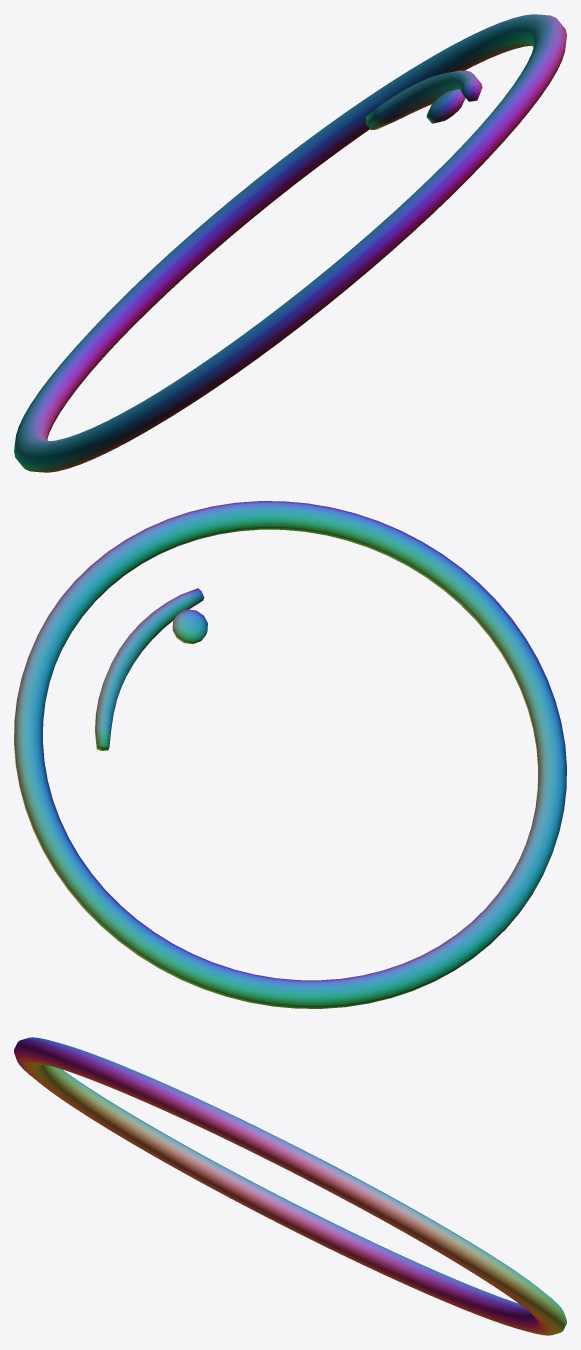
The model's file is SM_FX_Bubble.fbx.
The picture shows the model from 3 angles, top to bottom: view 1: azimuth 30°, elevation 25°; view 2: azimuth 150°, elevation 25°; view 3: azimuth 270°, elevation 25°; orthographic projection. The views are drawn at different scales.
Parts seen in each view (by area): view 1: SM_FX_Bubble; view 2: SM_FX_Bubble; view 3: SM_FX_Bubble.
Boxes of the visible parts, left/top/right/bottom form: SM_FX_Bubble: left=14, top=14, right=566, bottom=472; SM_FX_Bubble: left=14, top=501, right=566, bottom=1008; SM_FX_Bubble: left=14, top=1037, right=566, bottom=1335.
Size of the model in its own units: 1.42 by 1.04 by 1.42.
